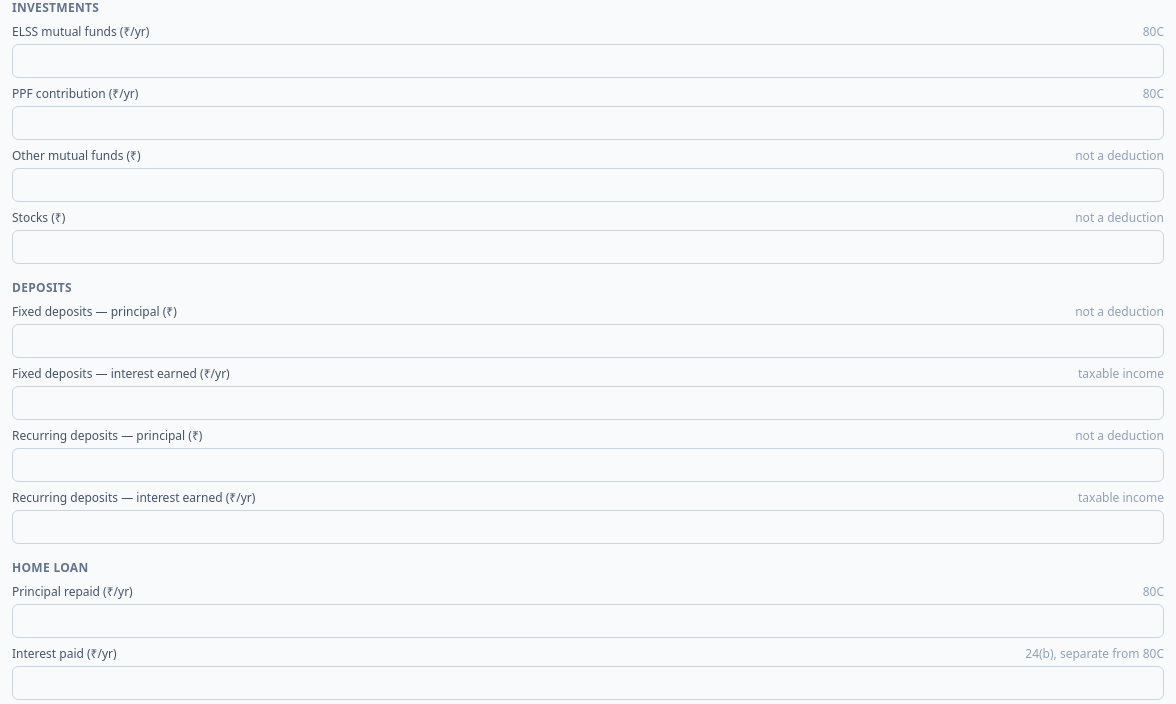
Test case: FinancialProfileForm › save › builds only the filled-in fields plus the senior-citizen flag, and updates the store only after the save succeeds
The width and height of the screenshot is (1176, 704).
In the number field labelled "ELSS mutual funds (₹/yr) 80C": (588, 61) [12,44,1164,78], type "50000"
(page scrolled)
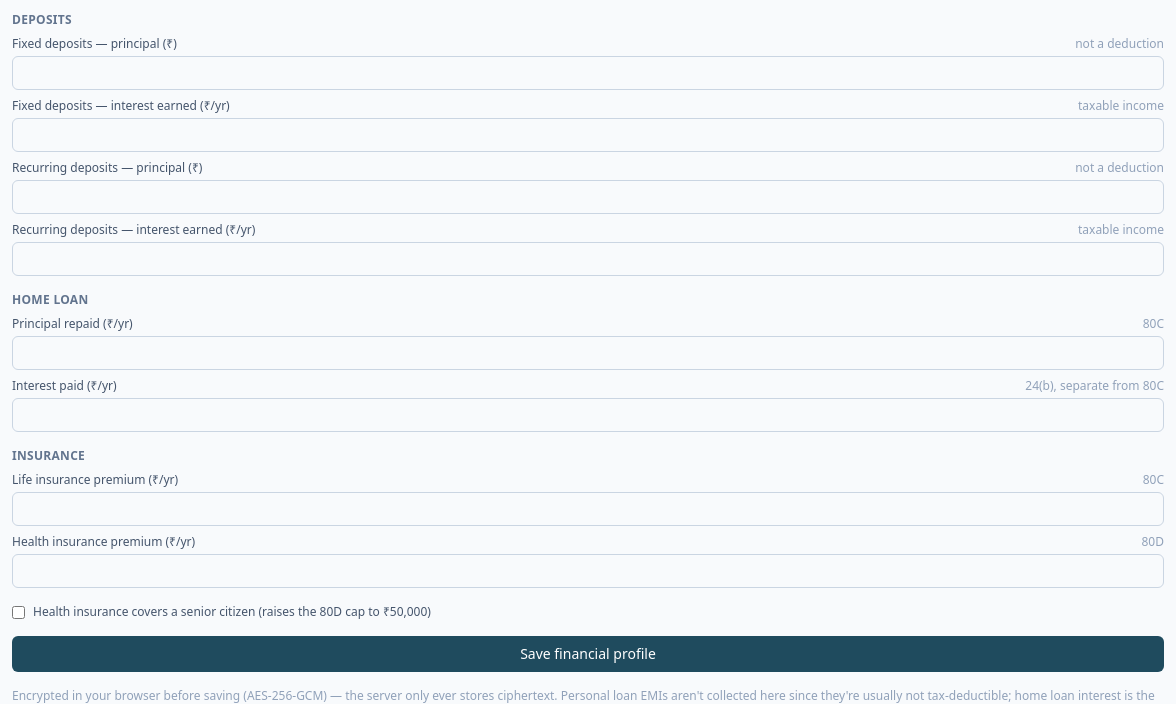
Click the checkbox labelled "senior citizen": (18, 612) [12,606,25,618]
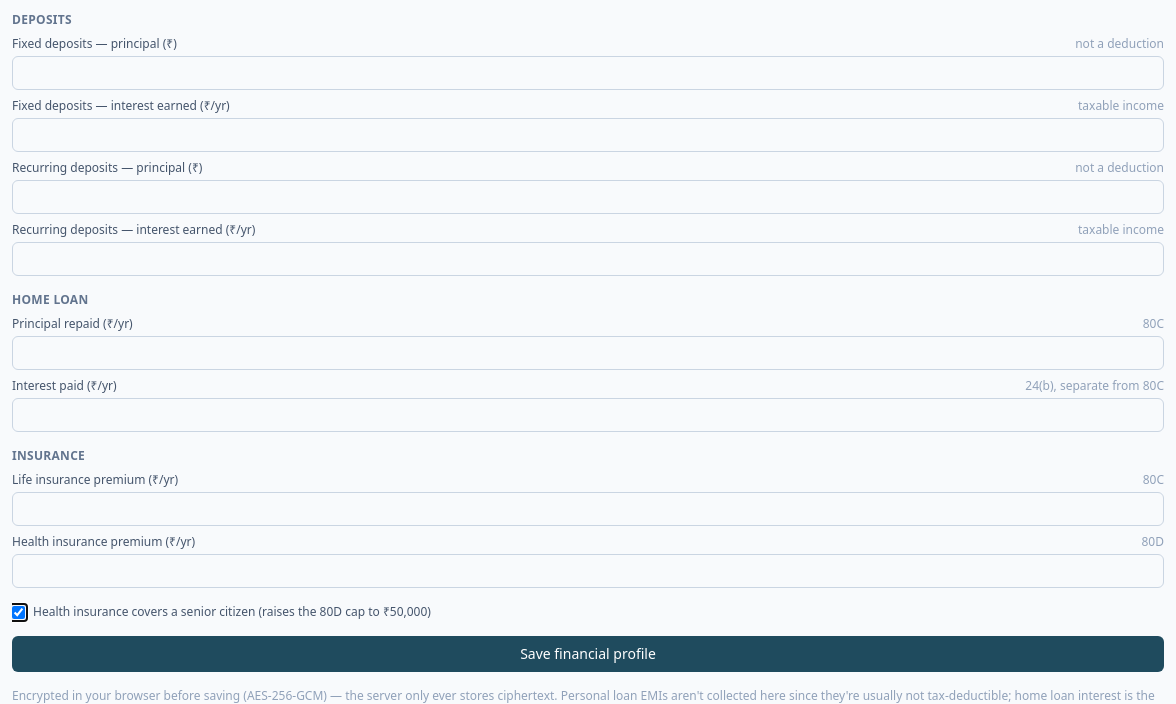
Click the button "Save financial profile": (588, 654) [12,636,1164,672]
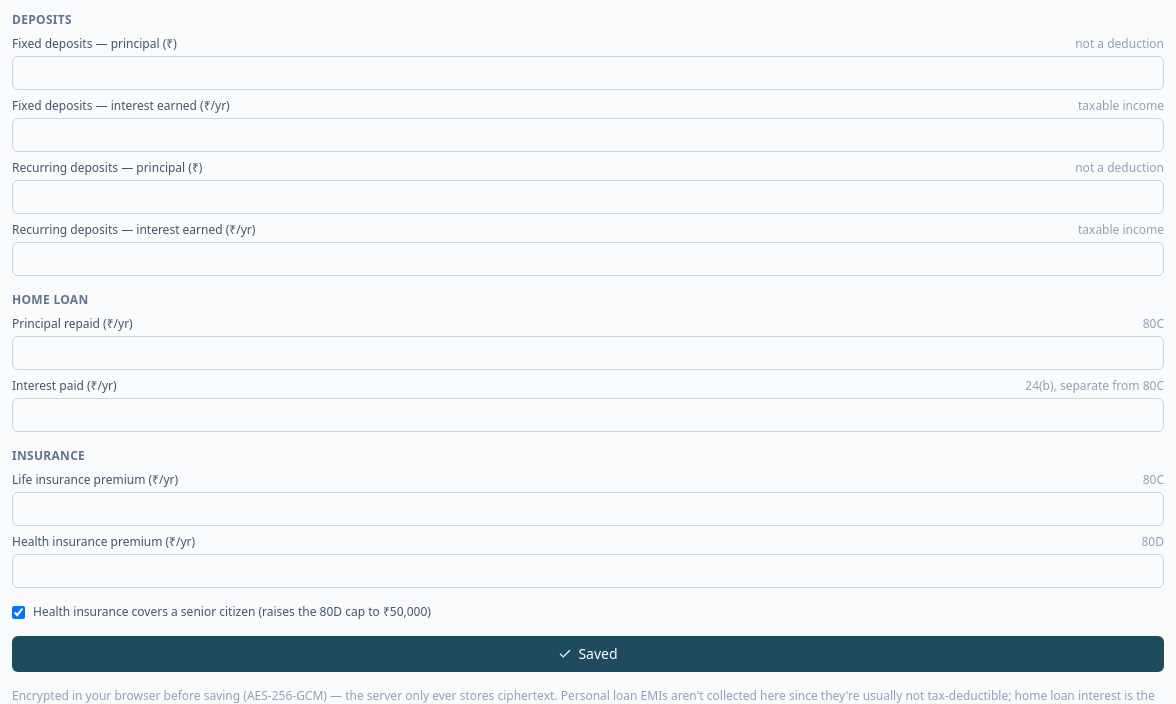
Result: the button "Saved" is shown at [12,636,1164,672]
